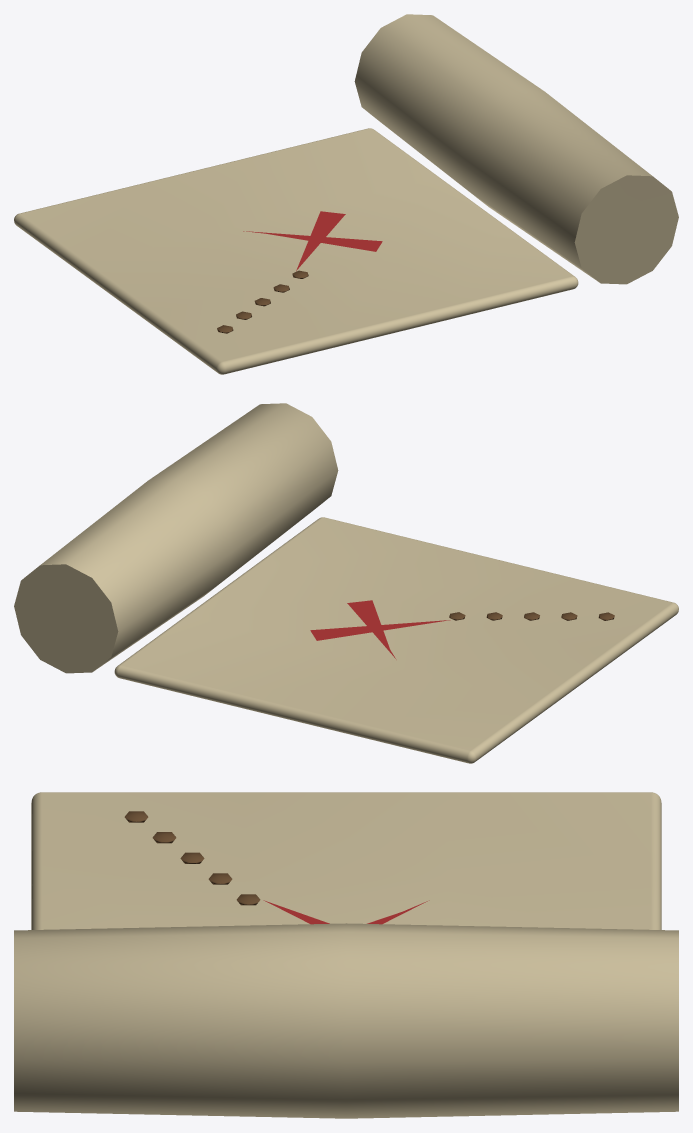
Rendered from item_ic_oldmap.glb.
The picture shows the model from 3 angles, top to bottom: view 1: azimuth 30°, elevation 25°; view 2: azimuth 150°, elevation 25°; view 3: azimuth 270°, elevation 25°; orthographic projection. The views are drawn at different scales.
Parts seen in each view (by area): view 1: item_ic_oldmap_main; view 2: item_ic_oldmap_main; view 3: item_ic_oldmap_main.
Boxes of the visible parts, left/top/right/bottom form: item_ic_oldmap_main: left=14, top=14, right=678, bottom=374; item_ic_oldmap_main: left=14, top=403, right=678, bottom=763; item_ic_oldmap_main: left=14, top=792, right=678, bottom=1118.
Size of the model in its own units: 0.228 by 0.056 by 0.19.
